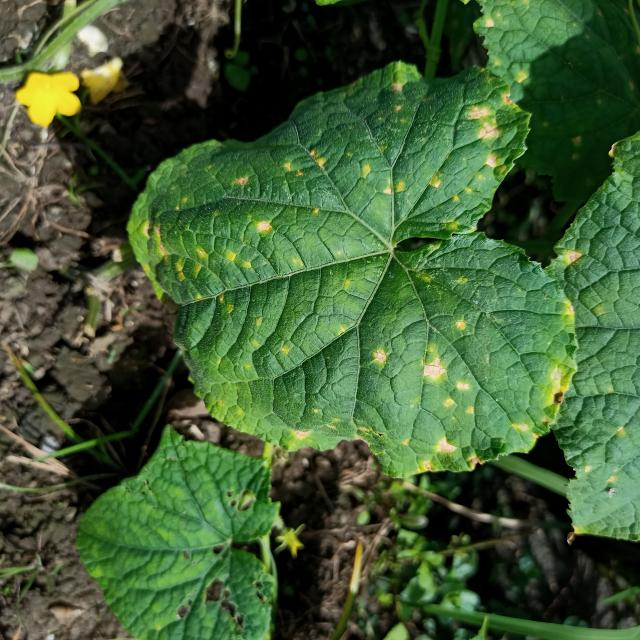disease_cucumber: (140, 77, 574, 473), (580, 425, 630, 486)
